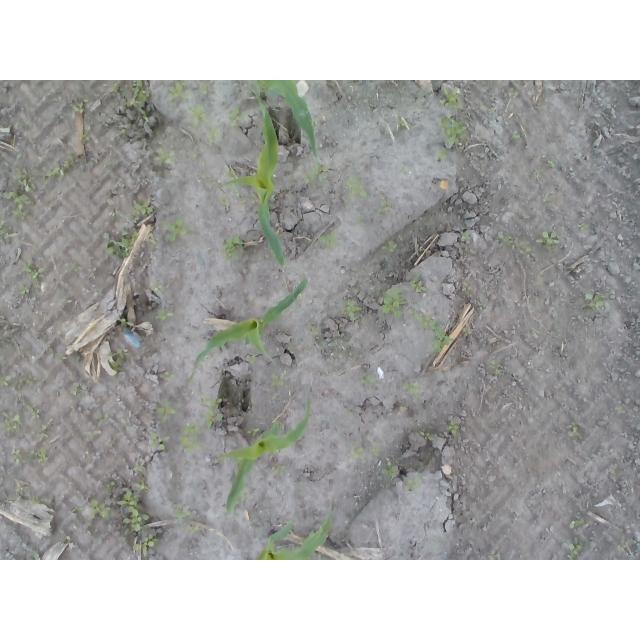Maize: (218, 398, 313, 515), (226, 92, 287, 269), (191, 278, 307, 367), (254, 80, 322, 157), (256, 512, 333, 560)
Weeds: (381, 286, 451, 354), (104, 476, 161, 552), (103, 197, 154, 263), (0, 167, 34, 221), (432, 114, 468, 162), (111, 80, 153, 114), (34, 151, 77, 181), (1, 373, 48, 399), (176, 421, 205, 458), (198, 394, 224, 431), (343, 173, 373, 202), (175, 504, 200, 537), (9, 447, 49, 466), (73, 496, 103, 521), (439, 85, 466, 112), (165, 214, 190, 243), (302, 159, 329, 185), (0, 407, 24, 436), (151, 397, 177, 423), (220, 235, 245, 262), (20, 256, 47, 281), (146, 430, 171, 455), (166, 80, 194, 102), (338, 294, 363, 318), (153, 143, 178, 167), (198, 165, 222, 189), (224, 104, 248, 128), (108, 344, 128, 372), (583, 288, 606, 312), (0, 208, 16, 242), (190, 104, 209, 129), (535, 231, 559, 250), (206, 123, 225, 146), (399, 382, 421, 400), (0, 321, 20, 340), (319, 230, 338, 250), (566, 420, 584, 440), (380, 238, 400, 255), (270, 372, 290, 389), (15, 479, 33, 497), (359, 368, 378, 385), (351, 446, 368, 465), (569, 515, 592, 529), (25, 403, 41, 423), (28, 493, 49, 508), (375, 199, 393, 216), (30, 424, 48, 441), (402, 477, 422, 492), (306, 319, 322, 337), (410, 276, 426, 294), (221, 166, 239, 182), (71, 97, 89, 113), (392, 112, 409, 128), (488, 359, 504, 376), (568, 544, 584, 561), (130, 457, 146, 474), (447, 415, 462, 433), (384, 463, 399, 481), (80, 128, 96, 144), (241, 488, 258, 503), (154, 307, 172, 321), (159, 370, 178, 383), (542, 192, 556, 209), (271, 463, 288, 477), (239, 350, 257, 363), (243, 424, 261, 437), (79, 429, 102, 439), (95, 412, 114, 424), (217, 193, 232, 208), (520, 239, 533, 256), (63, 261, 81, 273), (609, 463, 620, 482), (15, 282, 32, 294), (150, 281, 163, 296), (370, 445, 383, 460), (610, 402, 626, 414), (70, 382, 82, 398), (544, 159, 561, 170), (198, 83, 210, 98), (83, 448, 94, 464), (510, 131, 522, 145), (502, 235, 513, 249), (419, 430, 433, 441), (48, 110, 65, 119), (118, 317, 132, 327), (506, 87, 518, 98), (31, 548, 42, 560), (58, 351, 71, 361), (616, 541, 629, 551), (216, 450, 225, 464), (487, 552, 501, 561), (461, 231, 472, 242), (231, 189, 242, 200), (343, 407, 355, 417), (576, 223, 588, 233), (461, 327, 473, 337), (398, 163, 408, 174), (354, 216, 366, 225), (95, 288, 106, 297), (399, 402, 409, 411), (16, 151, 24, 162), (191, 152, 200, 161), (238, 199, 246, 209), (142, 114, 150, 123), (480, 304, 487, 312)
